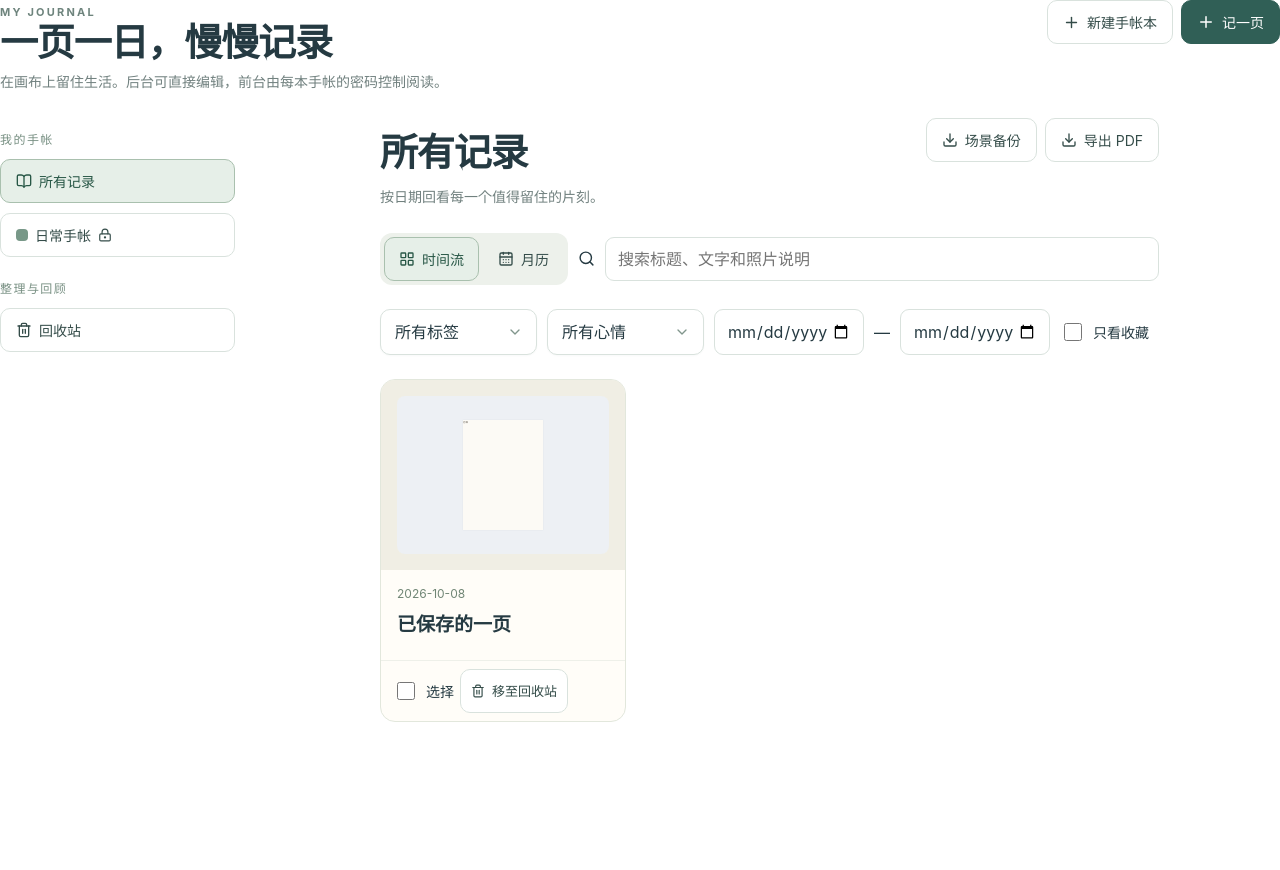
Test: administrator journal sharing › shares the whole selected notebook without a page, then the preview's starting page
The image size is (1280, 870).
Click the button "日常手帐": point(118, 235) [0,213,235,257]
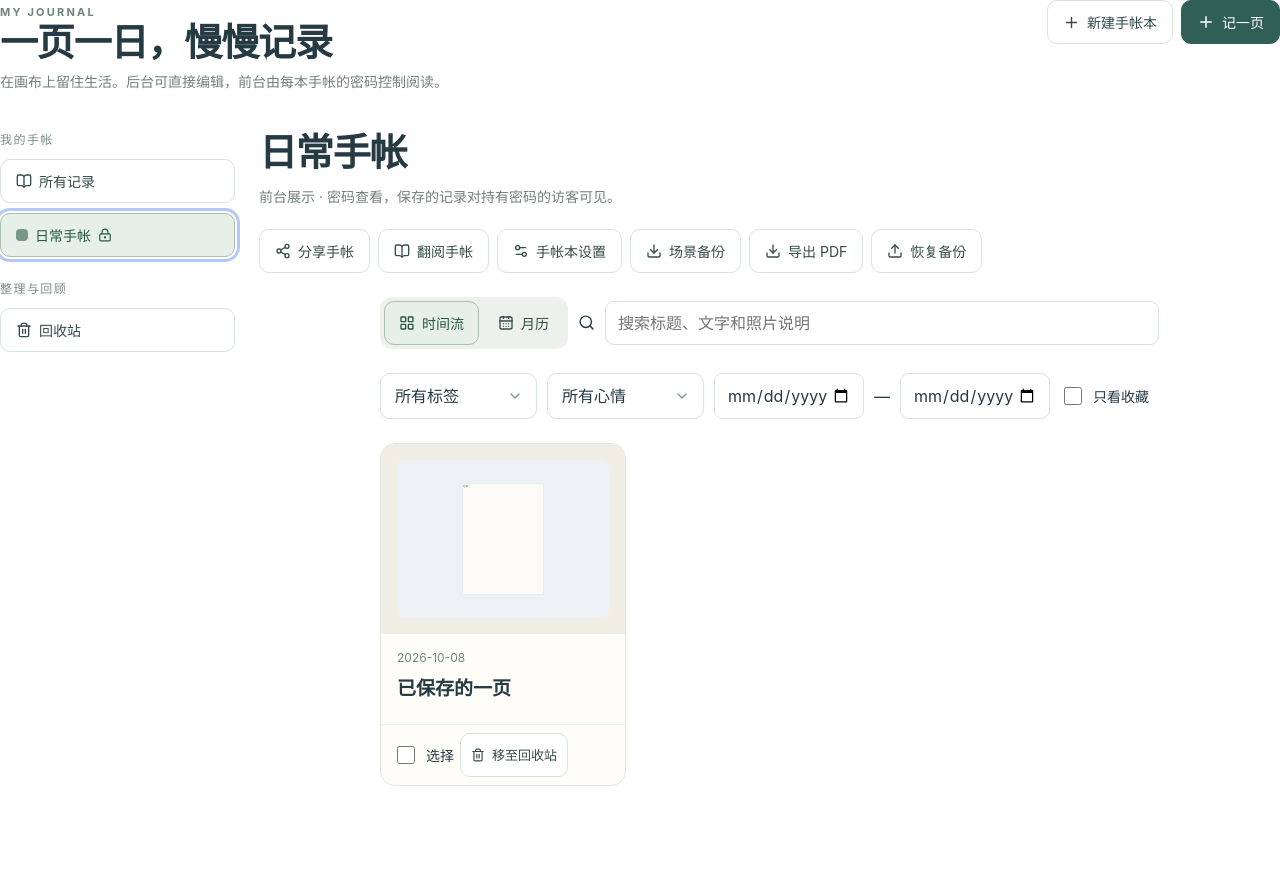
Click the button "分享手帐": point(314, 251) [259,229,370,273]
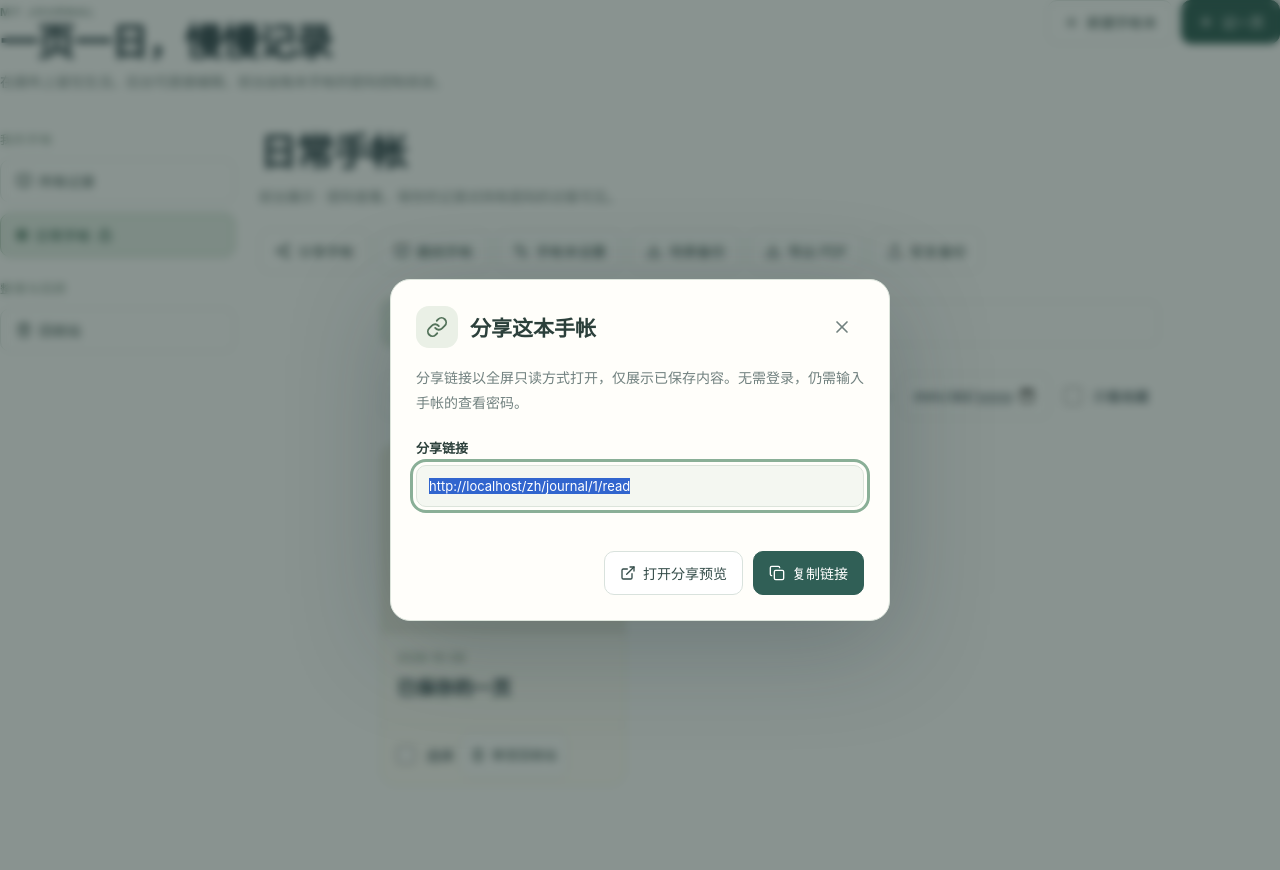
Click the button named "关闭分享窗口": point(842, 327) [820,305,864,349]
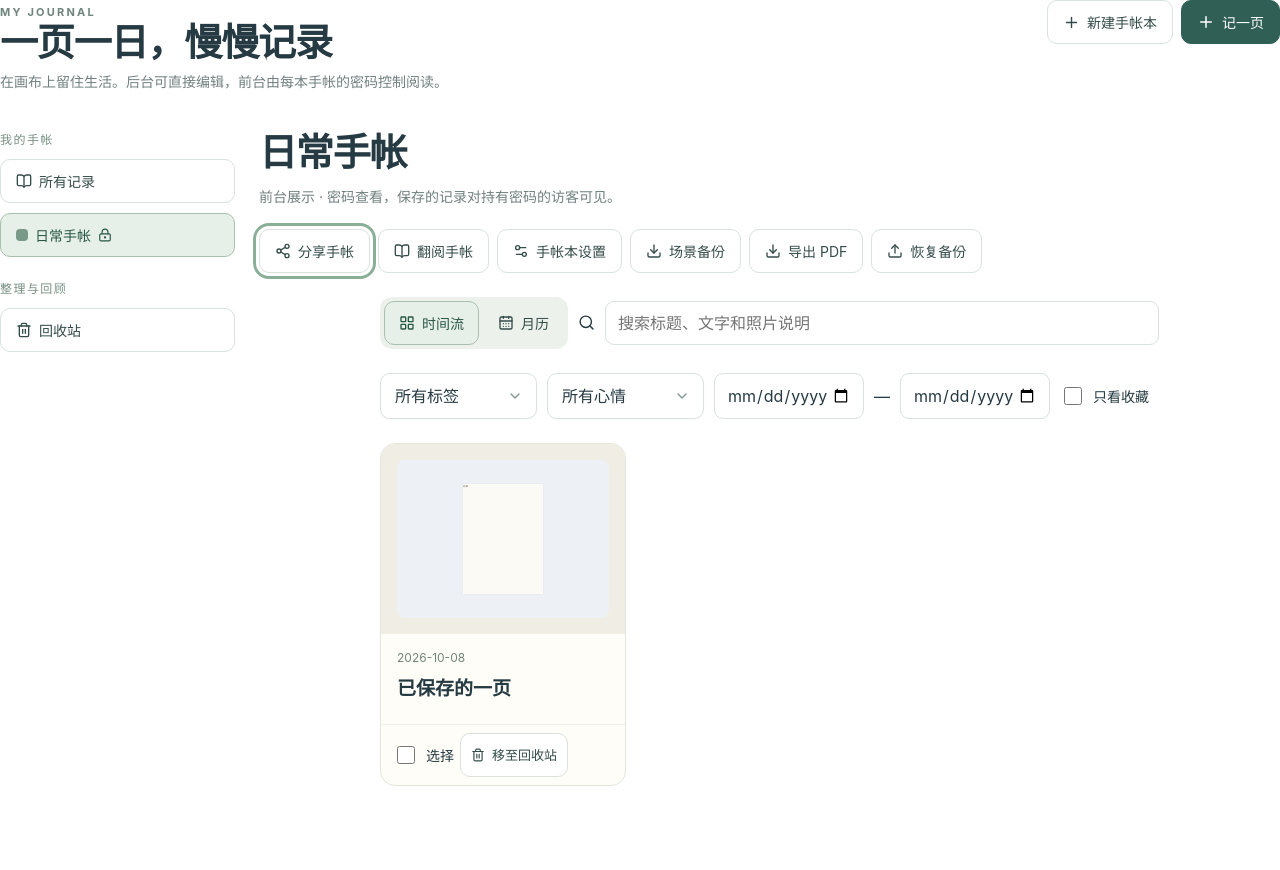
Click the button "翻阅手帐": point(434, 251) [378,229,489,273]
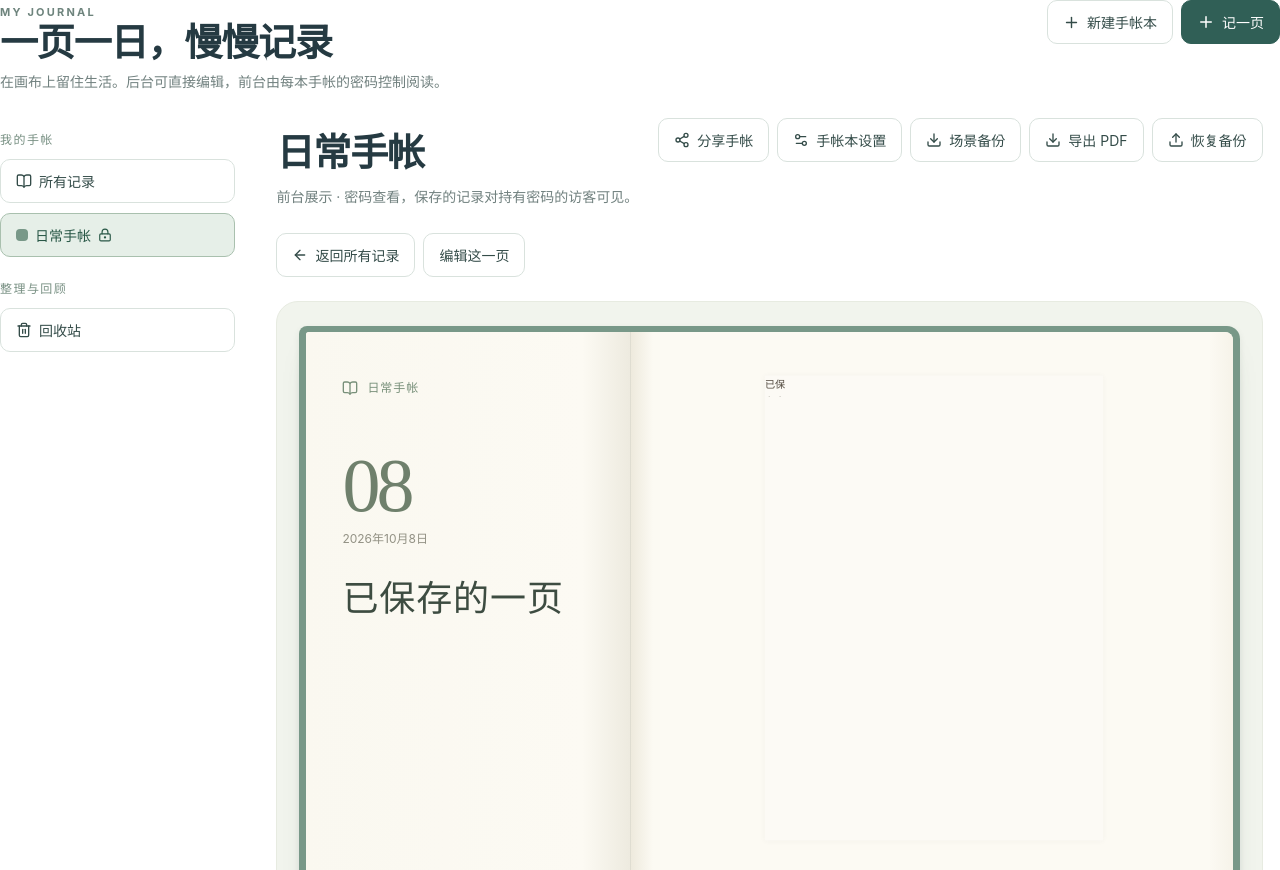
Click the button "分享手帐": point(714, 140) [658,118,769,162]
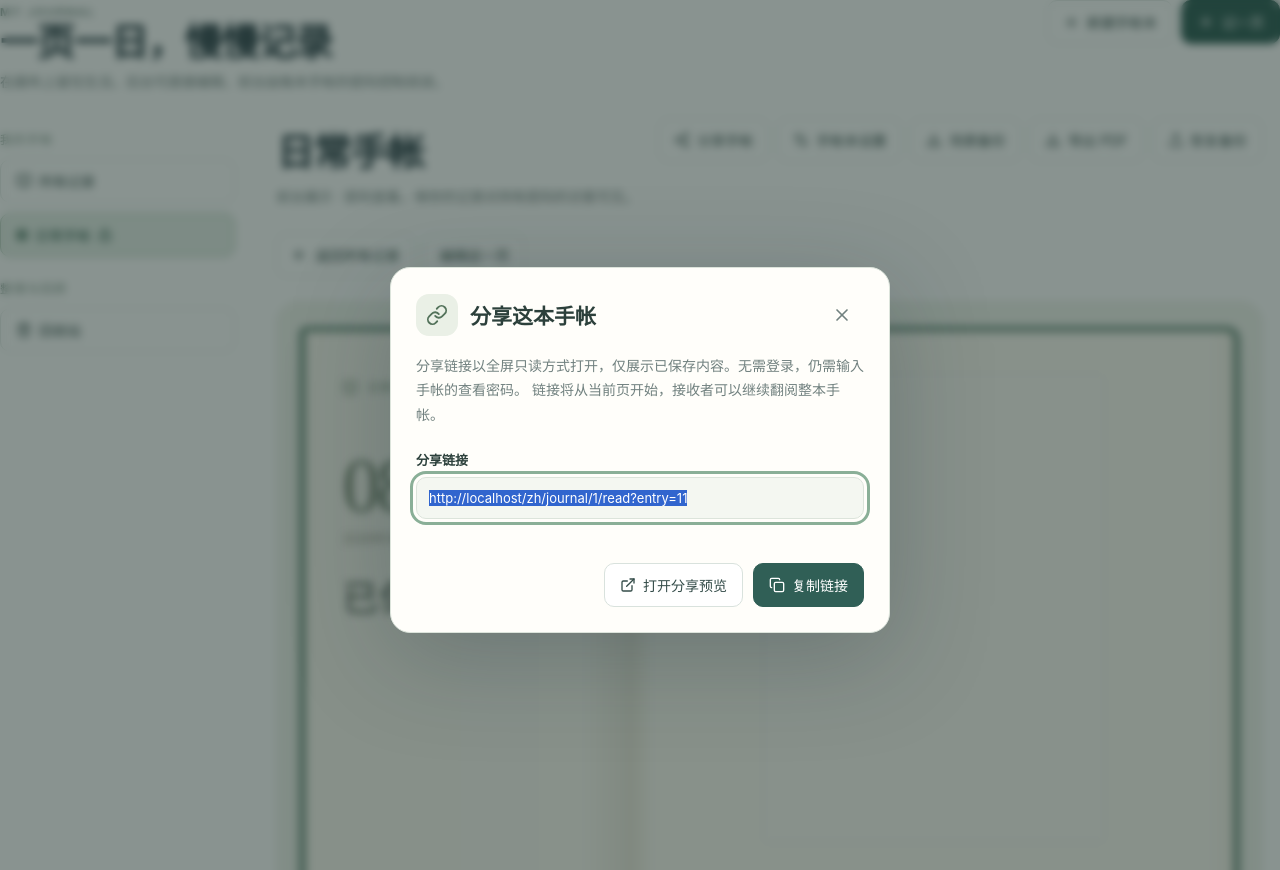
Expected: the text "接收者可以继续翻阅整本手帐" is shown, [416,381,840,423]
